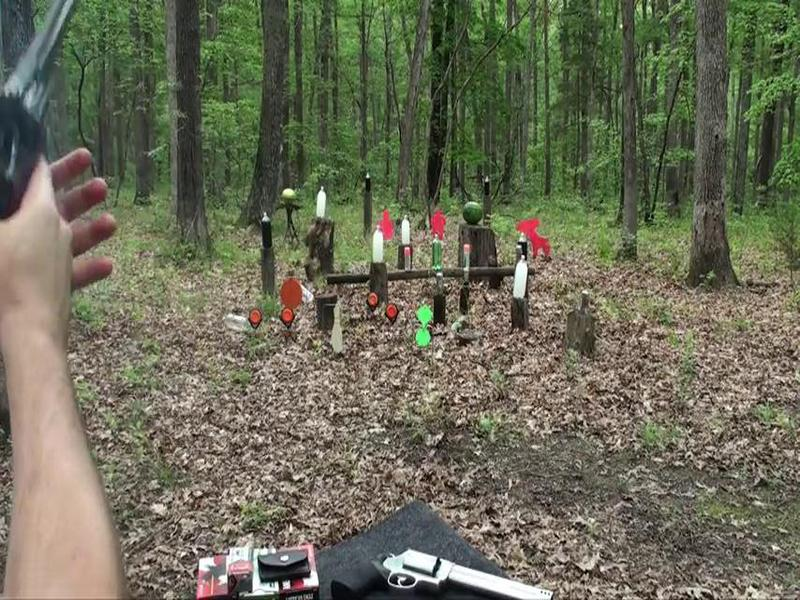Revolver: (1, 1, 94, 245)
